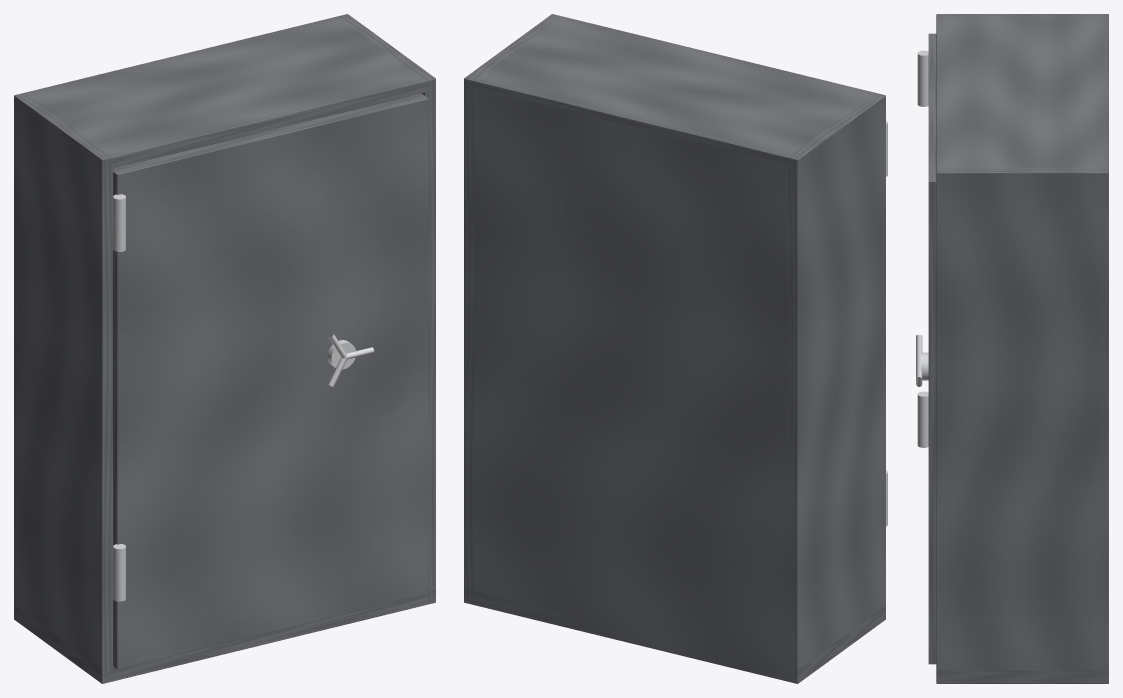
The model's file is fps-weapon-set-and-firing-range-armourer-cabinet-a11c76c7__19542.glb.
3 renders of one model, left to right at view 1: azimuth 30°, elevation 25°; view 2: azimuth 150°, elevation 25°; view 3: azimuth 270°, elevation 25°, orthographic. The views are drawn at different scales.
Parts seen in each view (by area): view 1: door, armourer-cabinet; view 2: armourer-cabinet; view 3: armourer-cabinet, door.
Part boxes in pixels (box(x1,y1,x2,y2)): door: box(113, 93, 428, 669); armourer-cabinet: box(14, 14, 435, 683); armourer-cabinet: box(464, 14, 887, 683); armourer-cabinet: box(916, 14, 1108, 683); door: box(928, 33, 936, 664).
Bounding box in the file's own units: 1.2 × 1.8 × 0.615.
3 materials, 2 textured.
